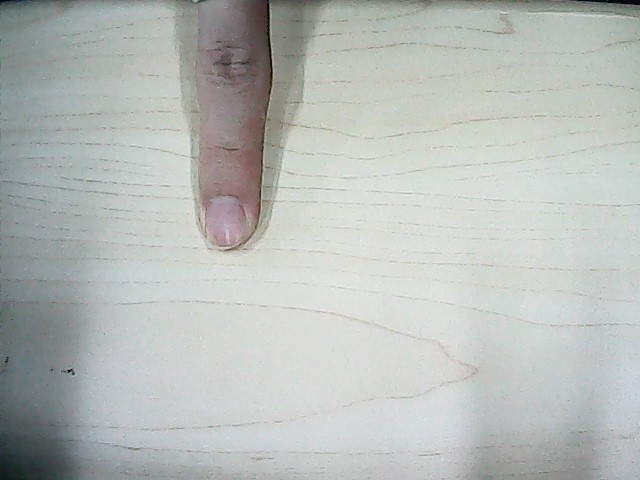nail: (203, 192, 247, 250)
